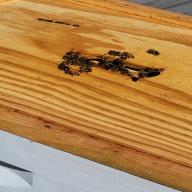Bee: (57, 61, 85, 78), (103, 50, 138, 61), (132, 70, 140, 81)
